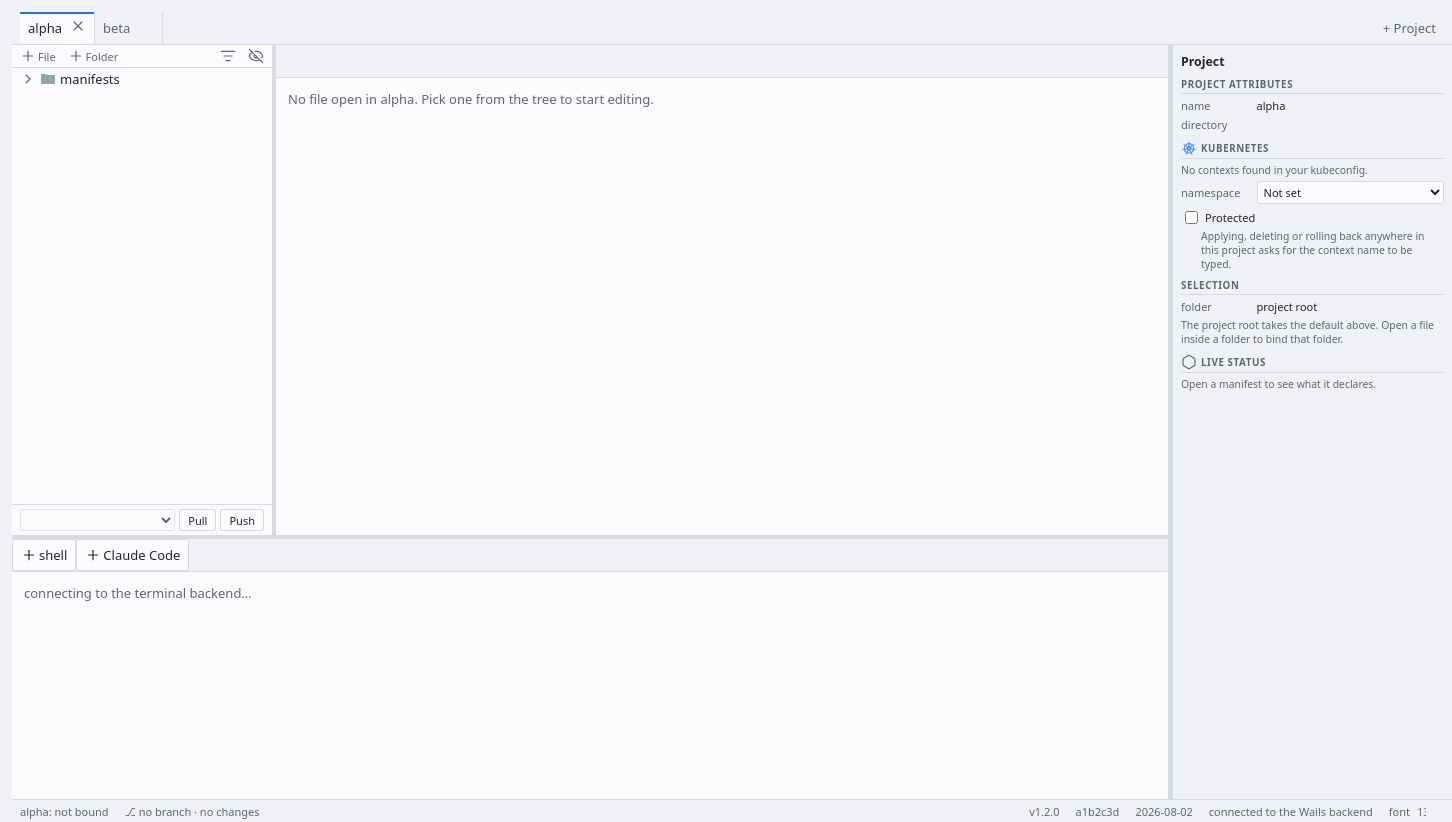
Scenario: a project tab keeping its state (#59) › comes back to the tree the project was left in
Click the list item "manifests": (70, 79) [20,70,120,88]
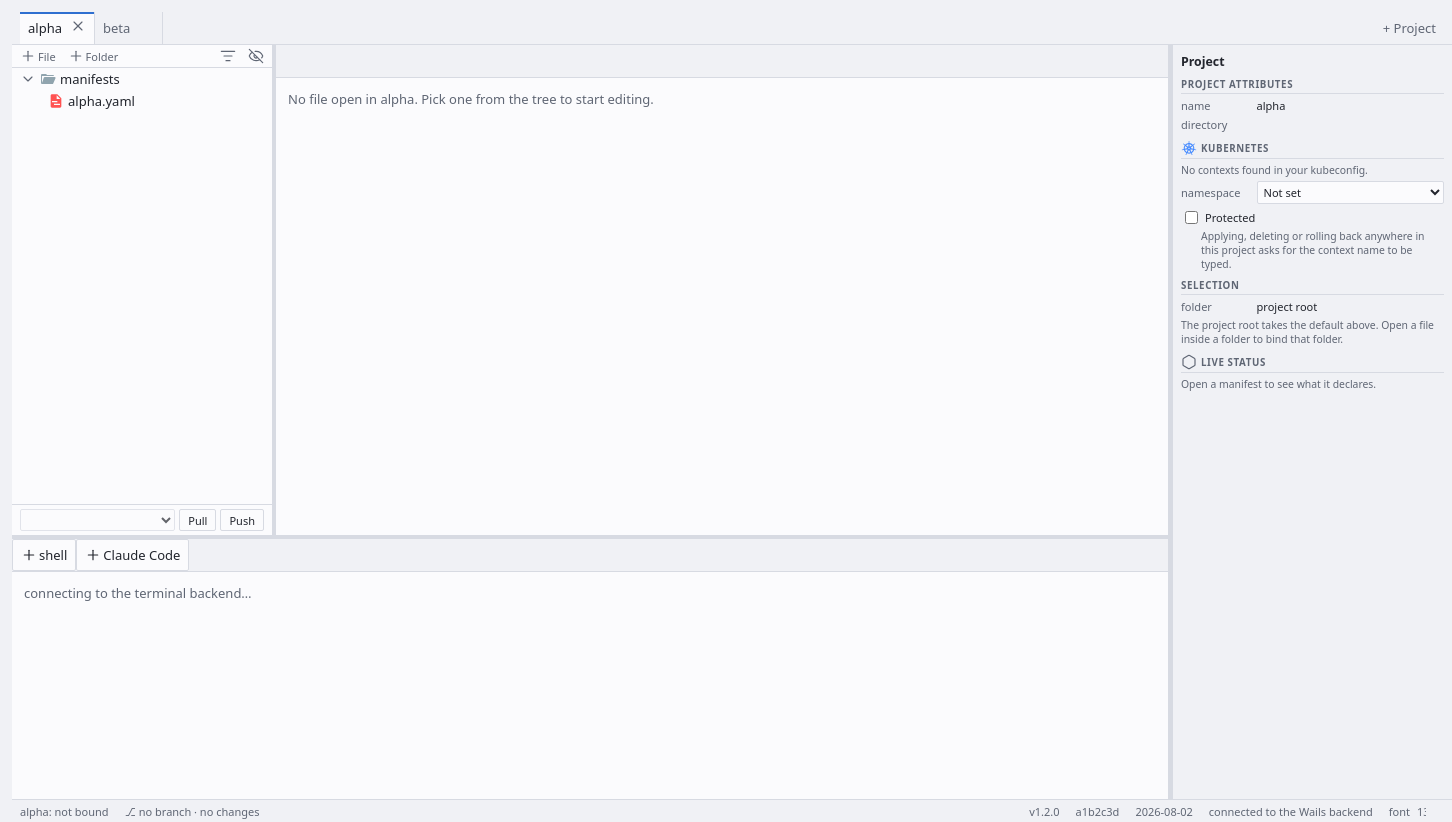
Result: the list item "alpha.yaml" is shown at [48,92,135,110]
Click the button "beta": (117, 28) [95,19,138,37]
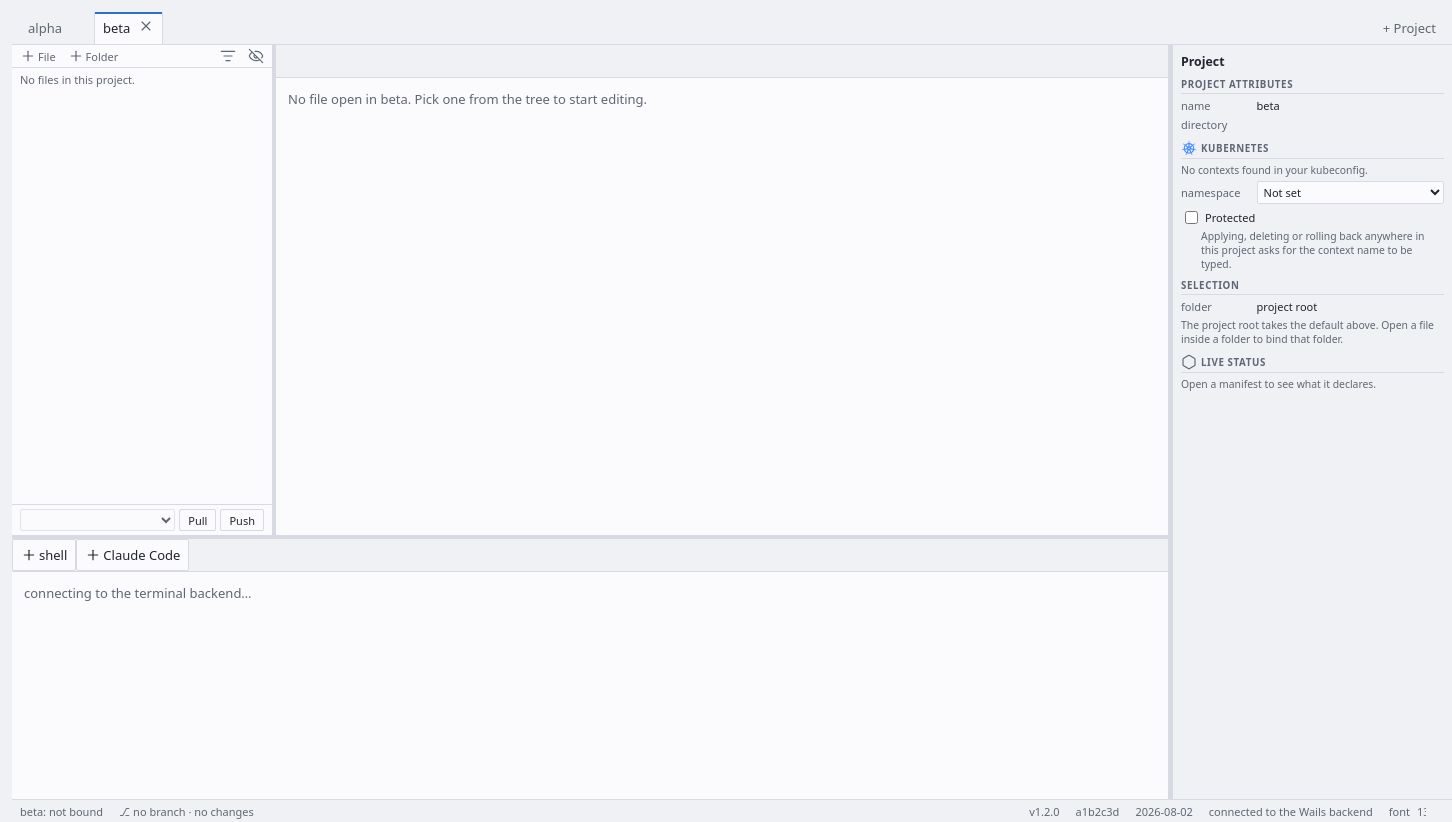
Result: the text "alpha.yaml" is gone
Click the button "alpha": (45, 28) [20,19,70,37]
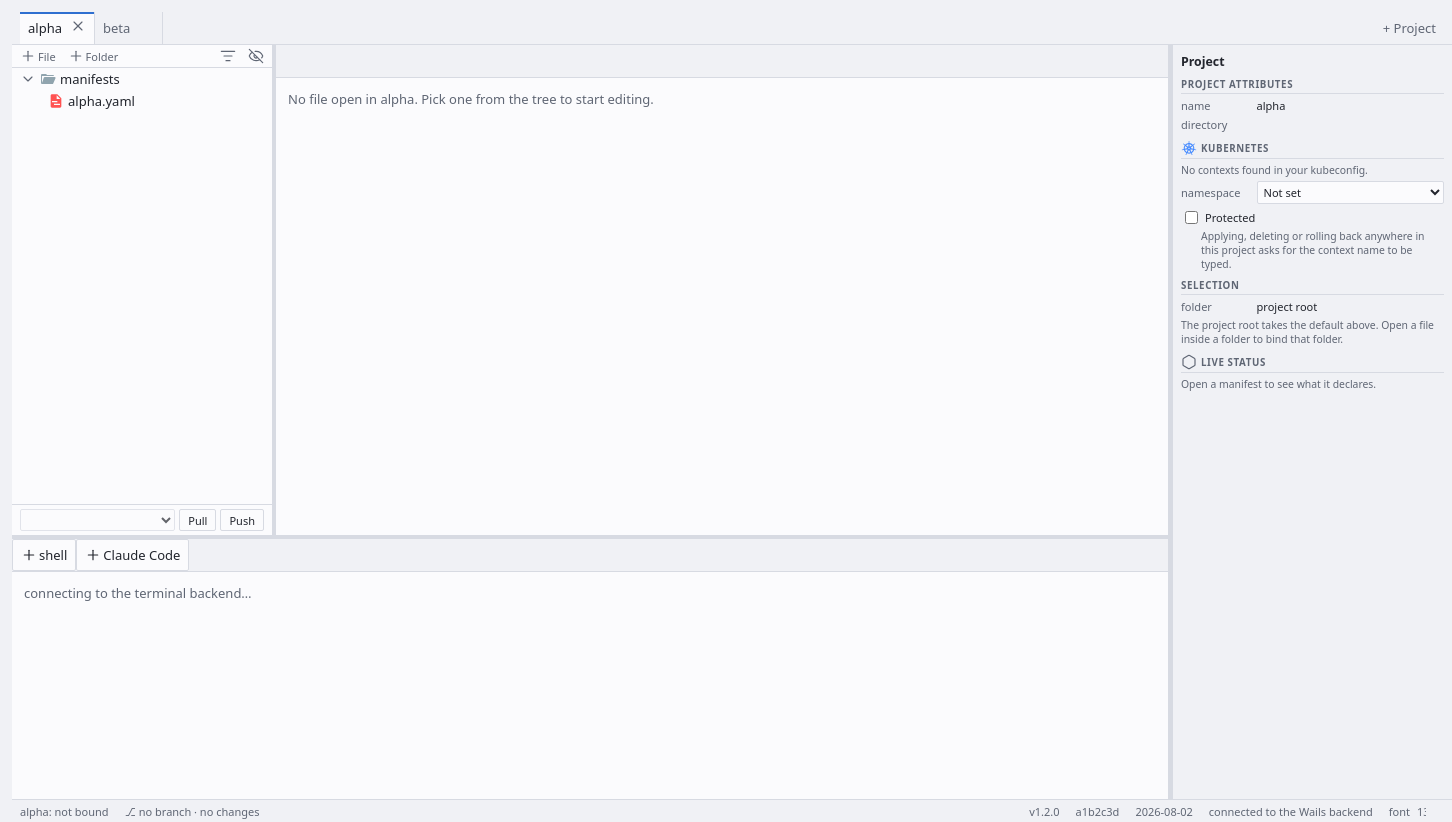
Result: the list item "alpha.yaml" is shown at [48,92,135,110]
